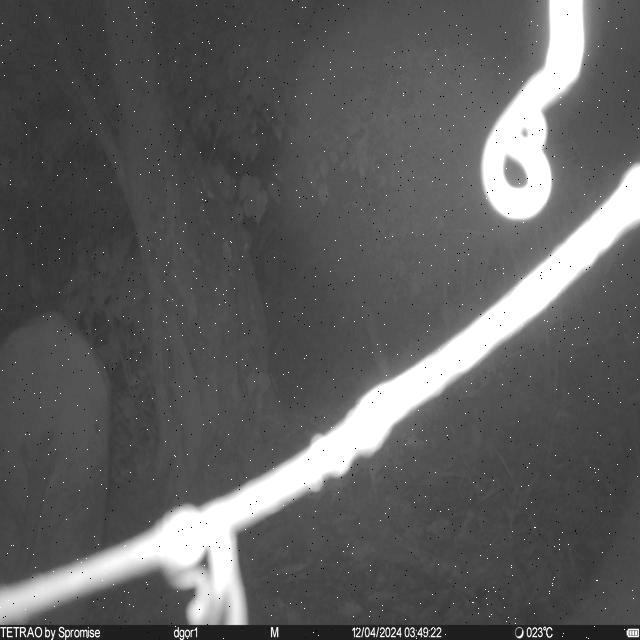calf: (0, 309, 111, 624)
